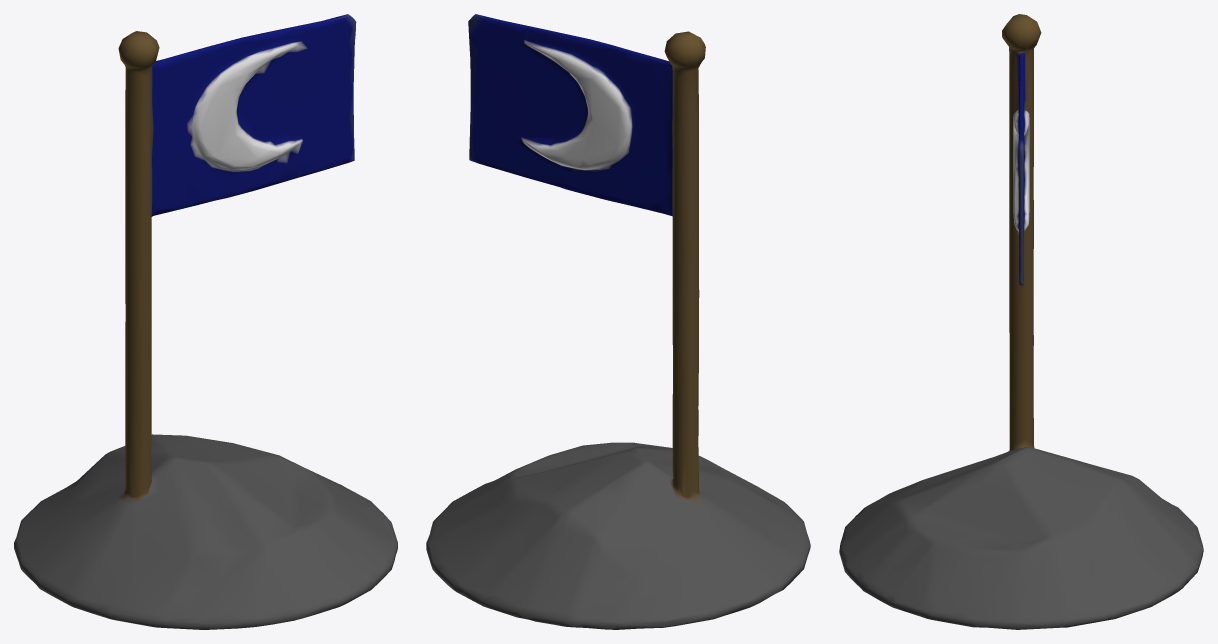
File: gen3d-moon-flag-lod0.glb
3 views of the same model, side by side, from view 1: azimuth 30°, elevation 25°; view 2: azimuth 150°, elevation 25°; view 3: azimuth 270°, elevation 25° (orthographic). The views are drawn at different scales.
Parts seen in each view (by area): view 1: part_0; view 2: part_0; view 3: part_0.
Part boxes in pixels (box(x1,y1,x2,y2)): part_0: box(14, 14, 397, 629); part_0: box(426, 14, 810, 629); part_0: box(839, 14, 1203, 629).
Size of the model in its own units: 0.6518 by 0.9979 by 0.6521.
